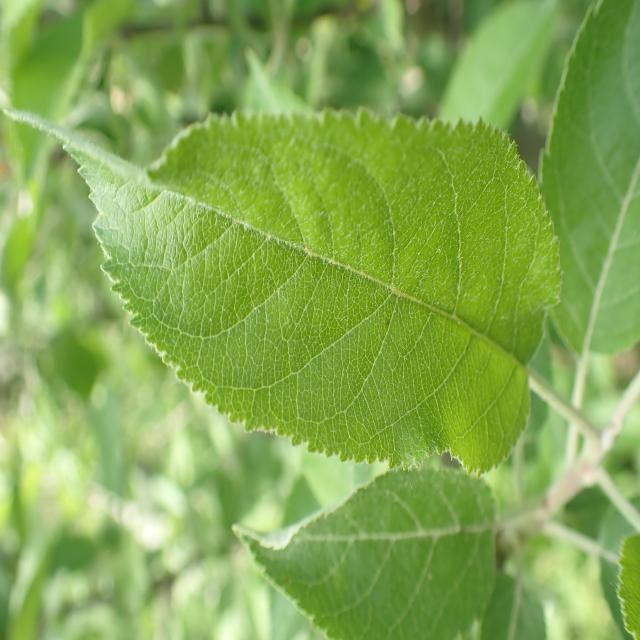healthy: (0, 102, 566, 482), (233, 467, 498, 640), (537, 0, 640, 356), (617, 530, 640, 640)
